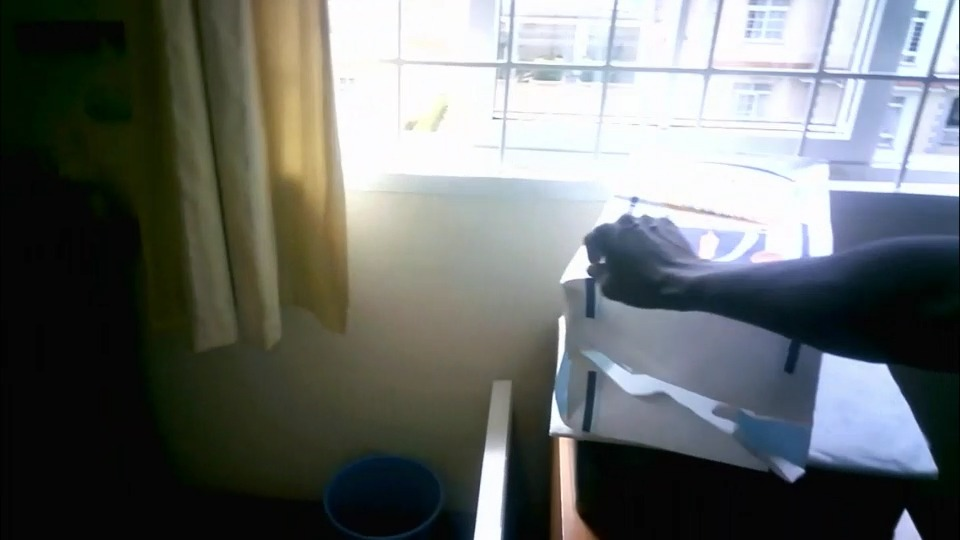wheat_flour_blue_label: (553, 147, 821, 469)
